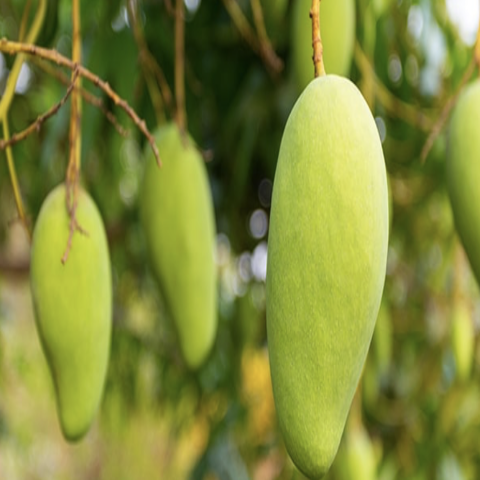mango: (246, 62, 410, 480), (128, 114, 228, 387), (20, 175, 115, 449)
